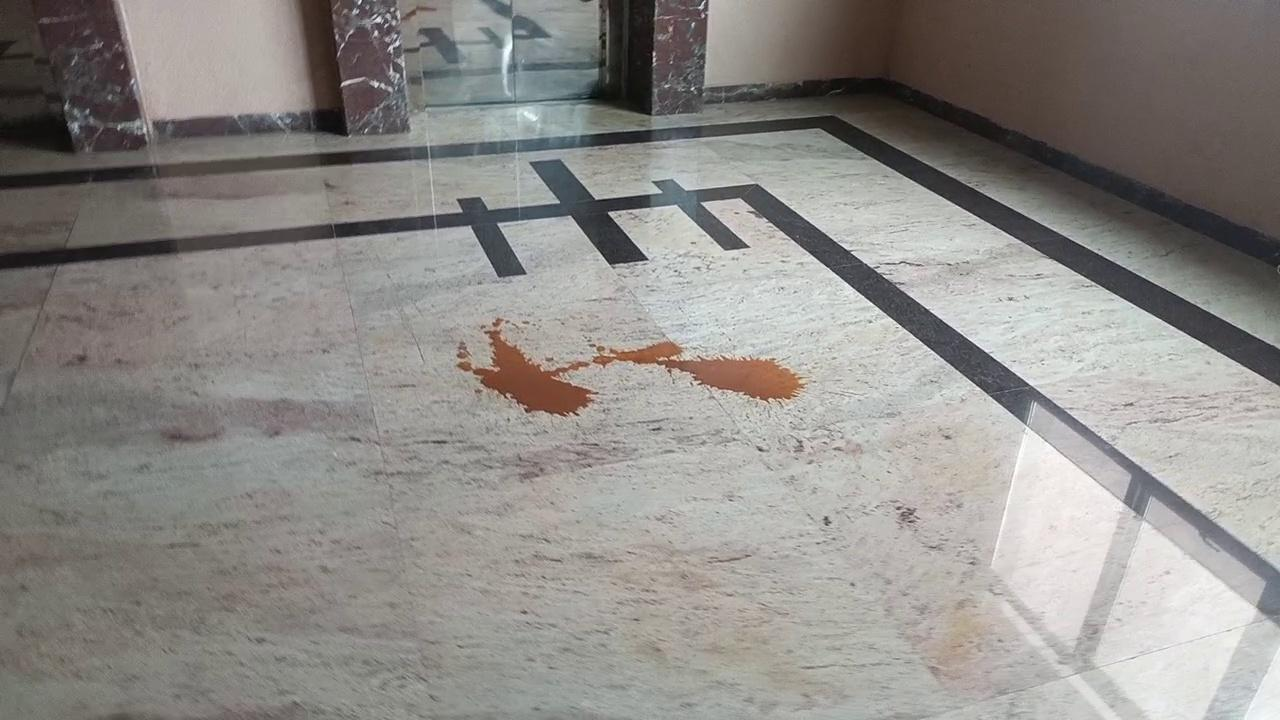dirty_floor: (449, 310, 808, 422)
